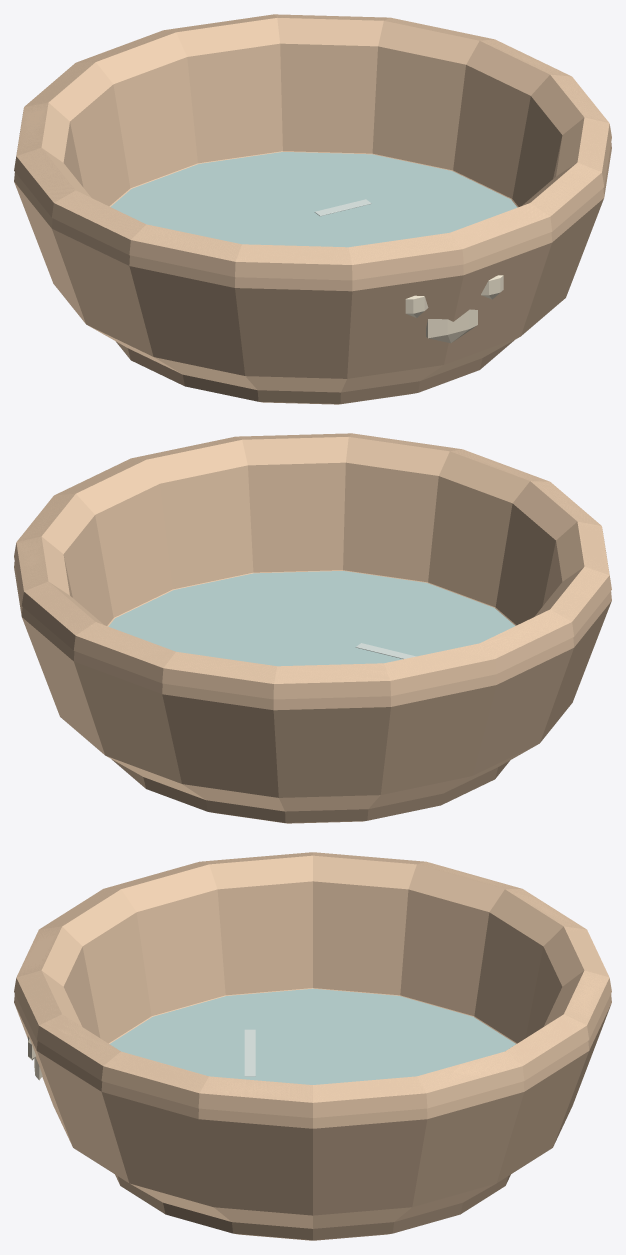
Rendered from crafted-coop-water-1.glb.
3 views of the same model, one above another, from view 1: azimuth 30°, elevation 25°; view 2: azimuth 150°, elevation 25°; view 3: azimuth 270°, elevation 25° (orthographic).
Visible parts, largest first — view 1: ceramic-bowl, water-level, glazed-rim, foot-ring, paw-pad; view 2: ceramic-bowl, water-level, glazed-rim, foot-ring; view 3: ceramic-bowl, water-level, glazed-rim, foot-ring, water-glint.
Part boxes in pixels (box(x1,y1,x2,y2)): ceramic-bowl: box(14, 14, 611, 392); water-level: box(111, 152, 517, 247); glazed-rim: box(14, 14, 611, 280); foot-ring: box(116, 340, 514, 404); paw-pad: box(426, 309, 477, 343); ceramic-bowl: box(14, 433, 611, 811); water-level: box(108, 571, 514, 666); glazed-rim: box(14, 433, 611, 699); foot-ring: box(111, 759, 509, 823); ceramic-bowl: box(14, 852, 611, 1228); water-level: box(109, 988, 516, 1084); glazed-rim: box(14, 852, 611, 1117); foot-ring: box(115, 1174, 510, 1240); water-glint: box(244, 1029, 255, 1076).
Bounding box in the file's own units: 0.76 × 0.265 × 0.76.
